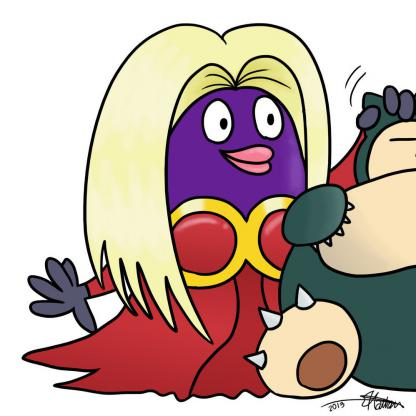Jynx: (1, 2, 416, 416)
